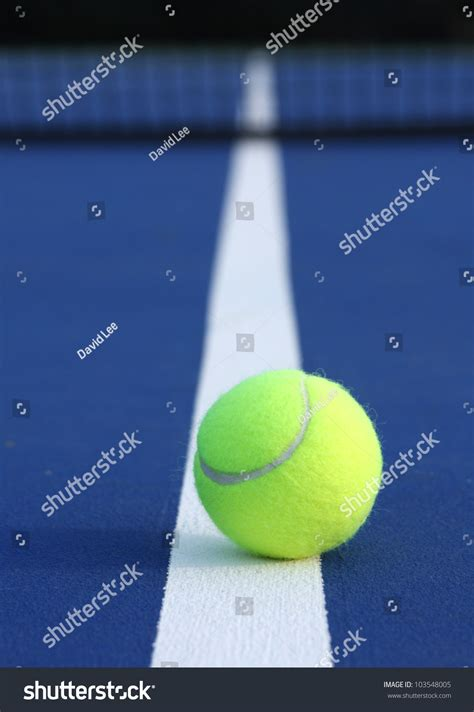tennis_ball: (193, 368, 383, 558)
